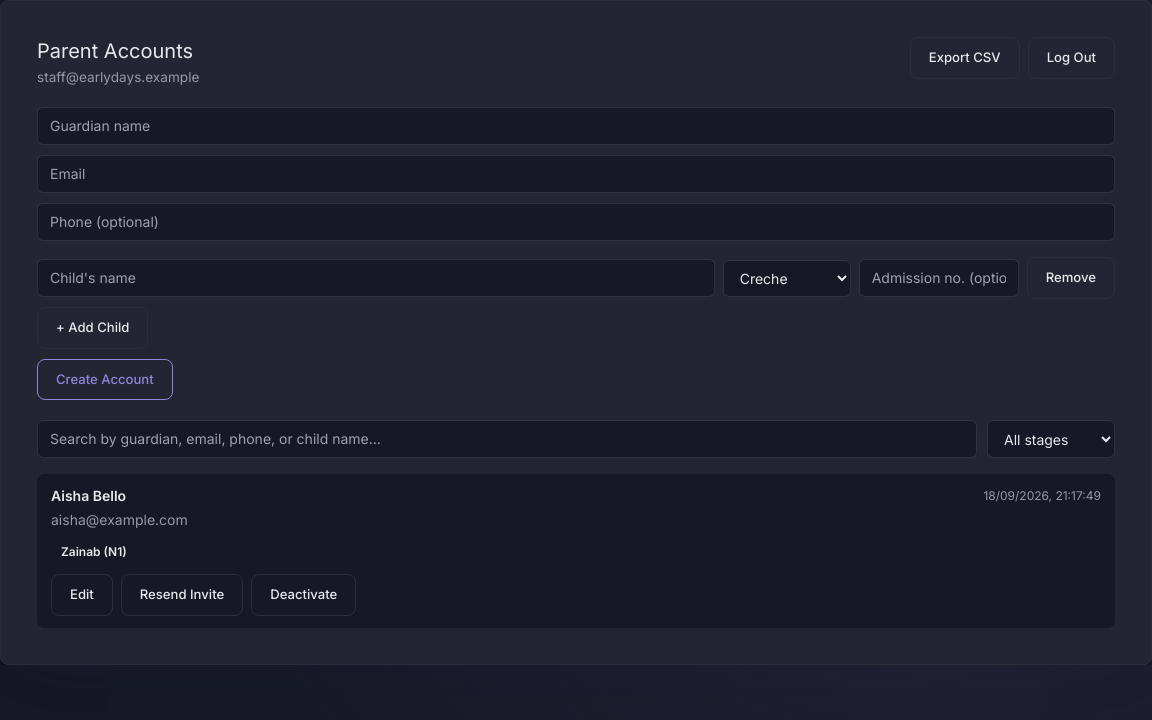
Test: AdminParentsPanel › cancels an edit without sending a request
Click the button "Edit" at (82, 595), box [51,574,113,616]
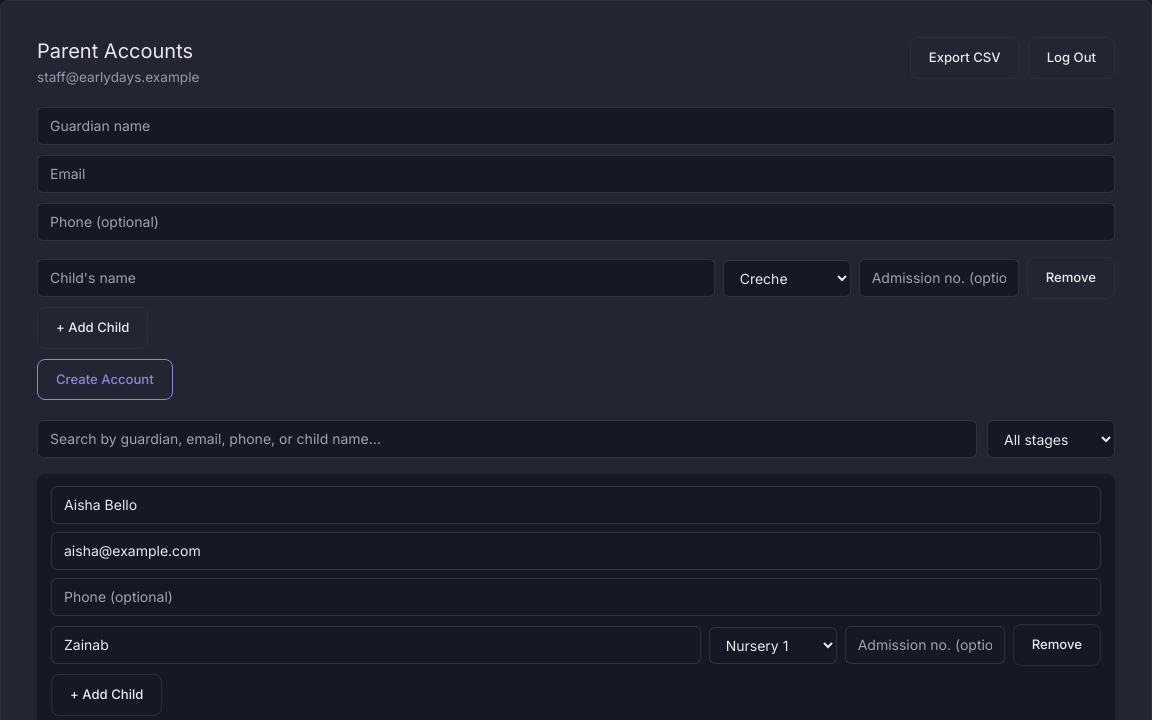
Type "0801234567" into the 2nd field with placeholder "Phone (optional)" at (576, 598), box [51,578,1101,616]
(page scrolled)
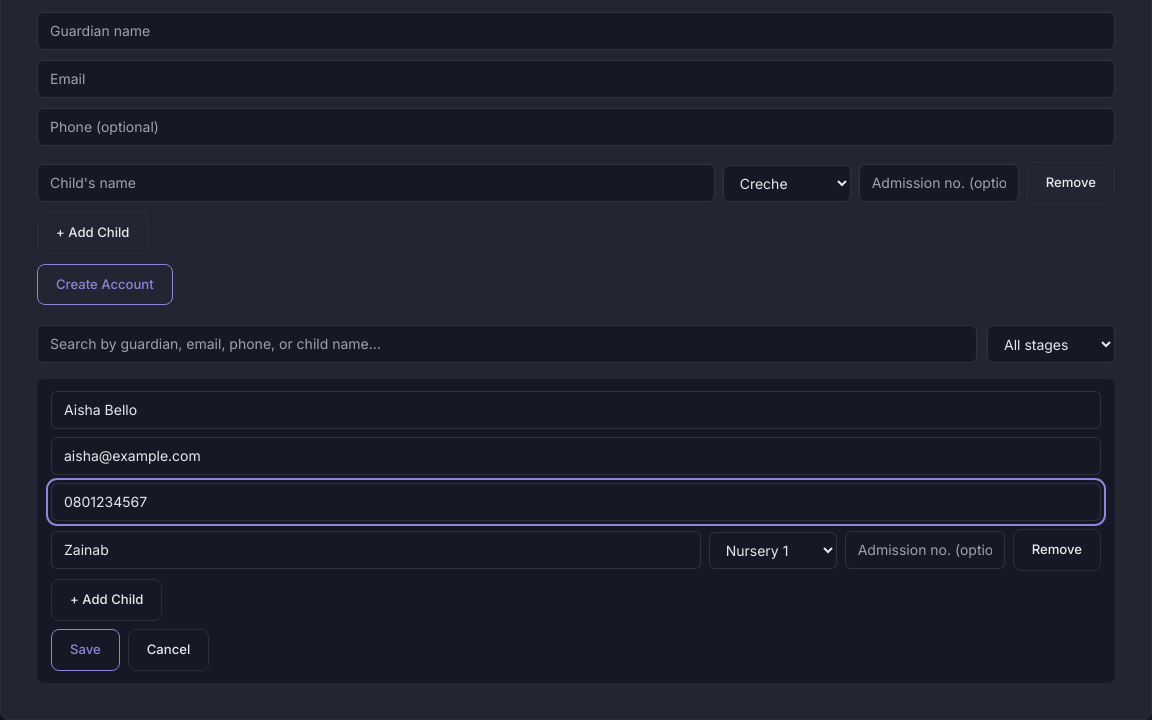
Click the button "Cancel" at (168, 650), box [128,629,209,670]
(page scrolled)
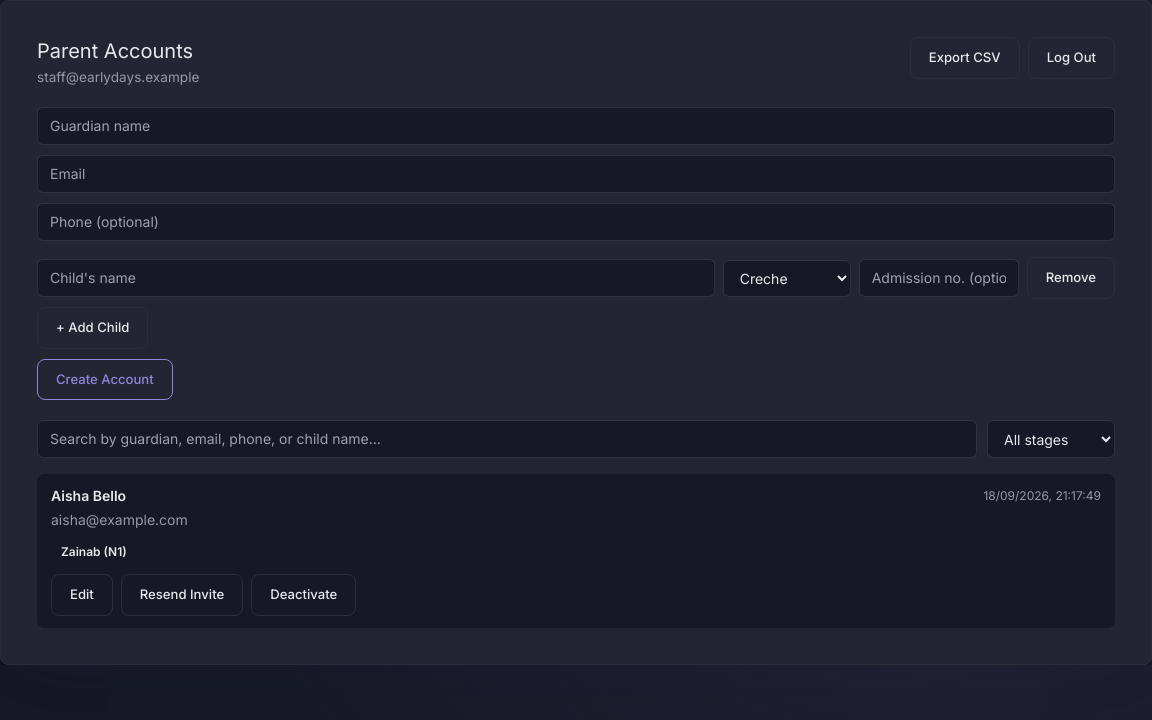
Expected: the button "Save" is gone
